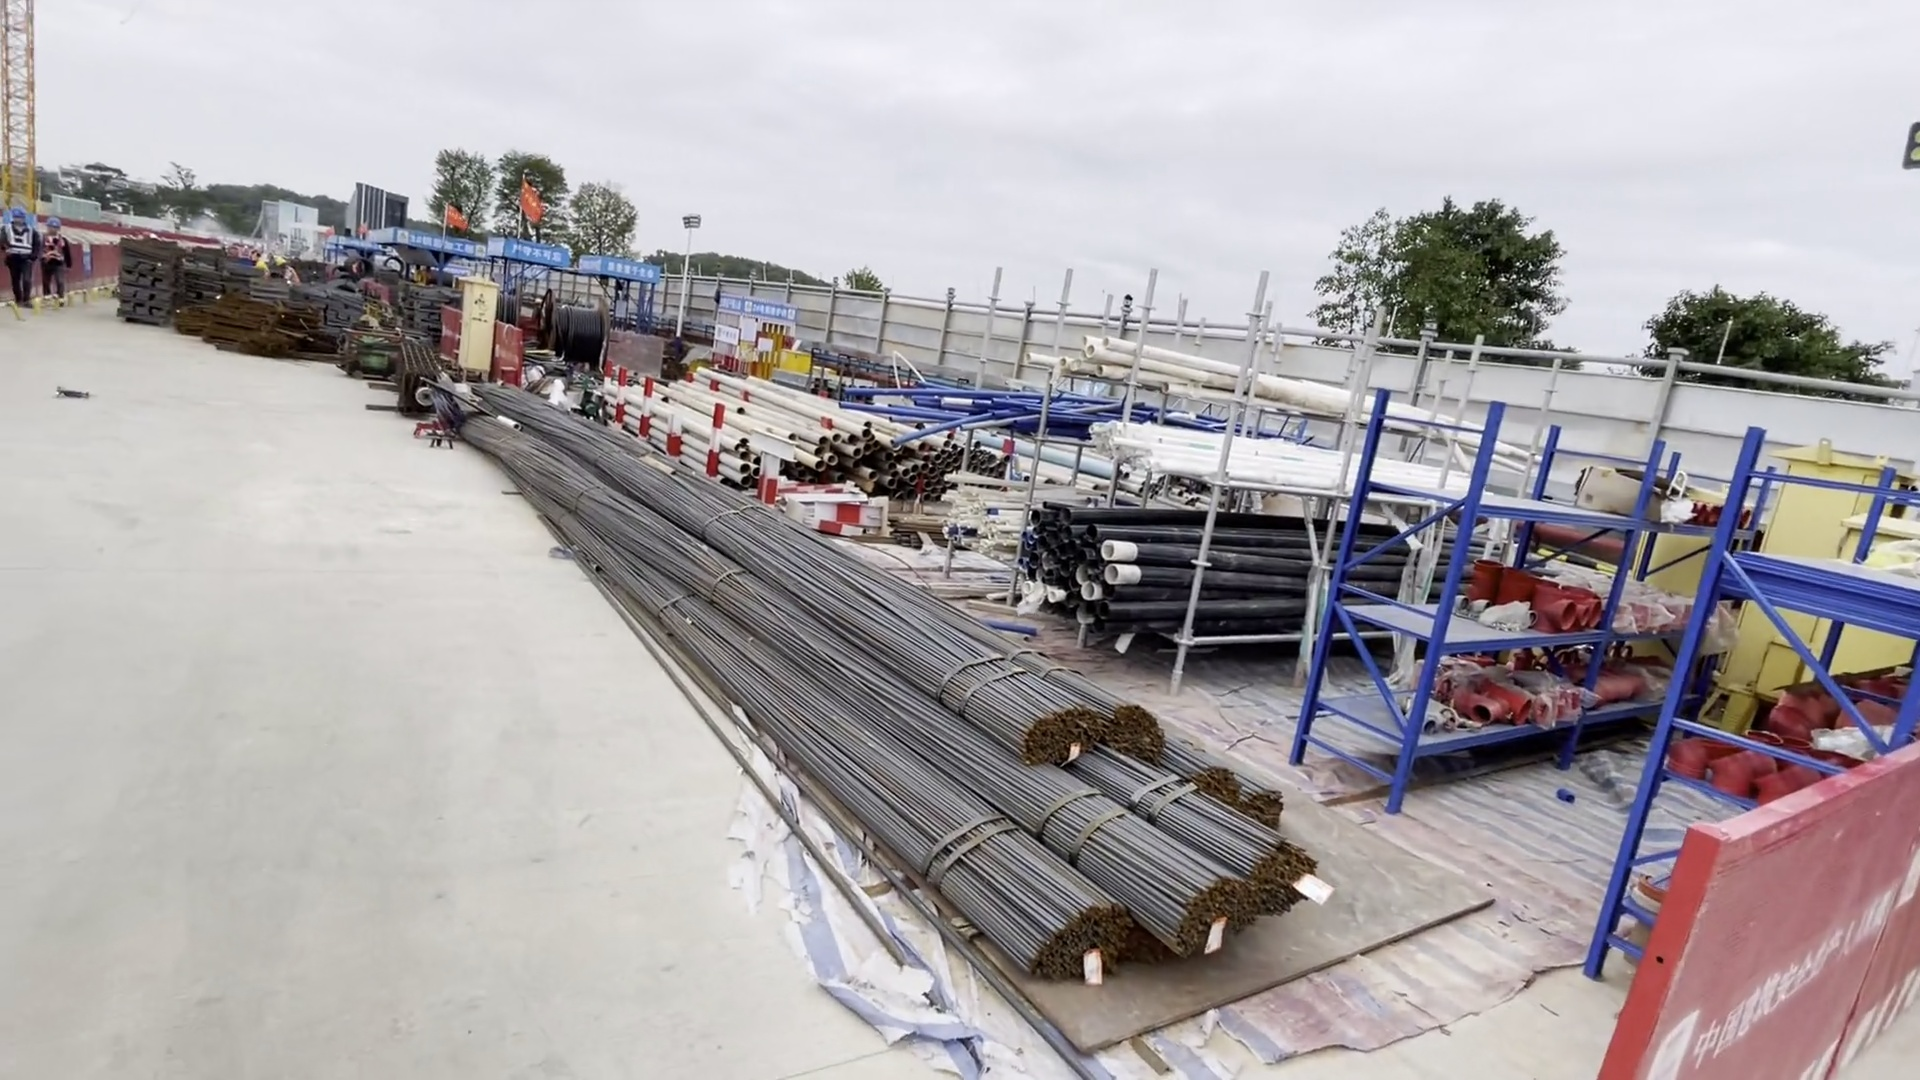ebox: (1744, 441, 1920, 725), (449, 274, 494, 380)
fence: (1664, 789, 1920, 1073)
helmet: (10, 206, 25, 219), (47, 218, 60, 228)
person: (1, 207, 38, 307), (41, 216, 73, 309), (274, 257, 295, 288)
rebar: (411, 365, 1334, 990)
vest: (6, 224, 33, 259), (40, 234, 64, 258)
